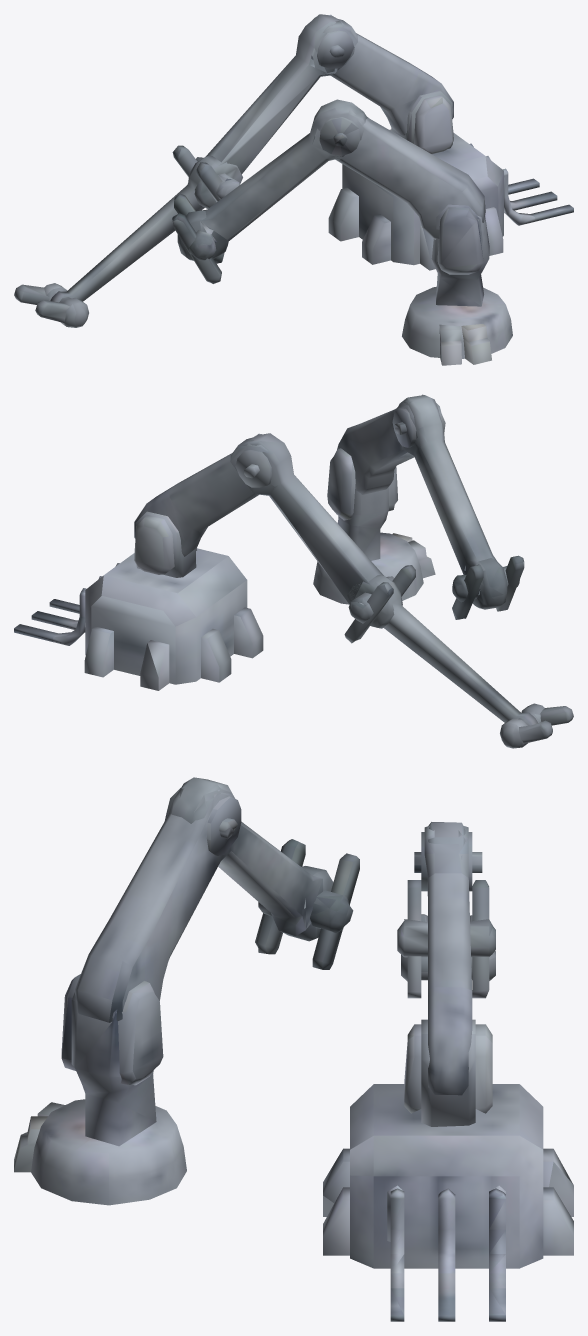
File: 整備庫_20_小型機械爪.glb
3 renders of one model, top to bottom at view 1: azimuth 30°, elevation 25°; view 2: azimuth 150°, elevation 25°; view 3: azimuth 270°, elevation 25°, orthographic. The views are drawn at different scales.
Visible parts, largest first — view 1: 20_小型機械爪; view 2: 20_小型機械爪; view 3: 20_小型機械爪.
Boxes of the visible parts, x1,y1,x2,y2 form: 20_小型機械爪: (14,14,573,365); 20_小型機械爪: (14,394,573,748); 20_小型機械爪: (14,777,573,1321).
Size of the model in its own units: 0.1255 by 0.0537 by 0.0806.
Materials: 1 (1 with a texture image).
